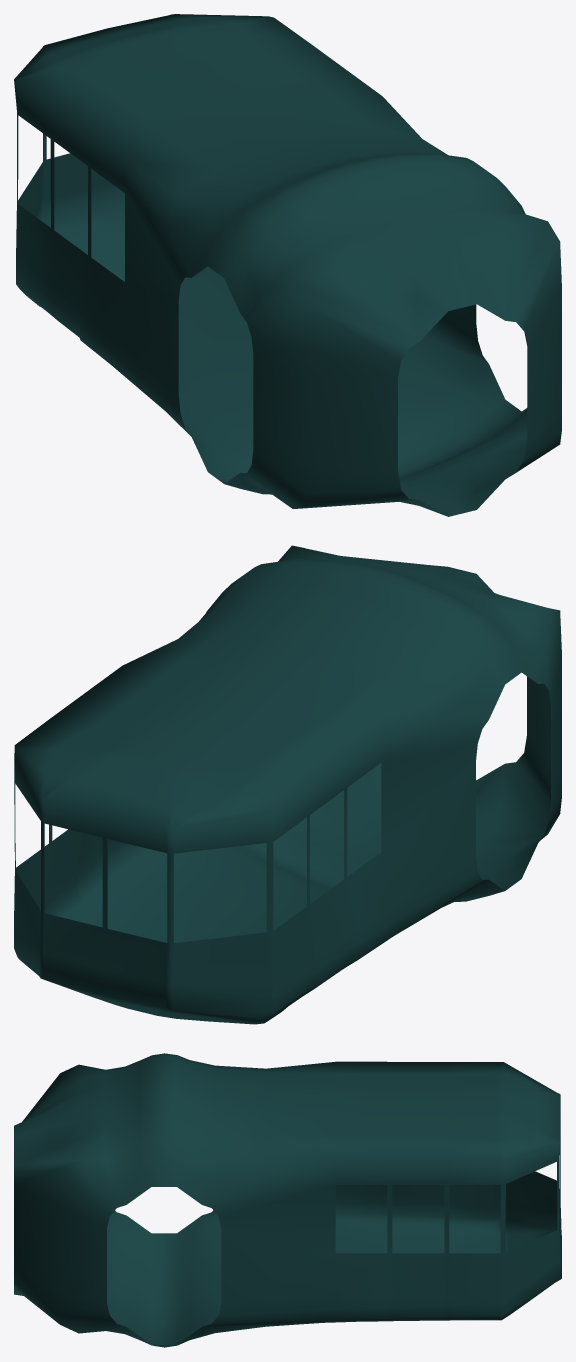
The model's file is OutsideObservatoryRoomHigh.fbx.
3 views of the same model, one above another, from view 1: azimuth 30°, elevation 25°; view 2: azimuth 150°, elevation 25°; view 3: azimuth 270°, elevation 25° (orthographic). The views are drawn at different scales.
Parts seen in each view (by area): view 1: OutsideObservatoryRoomHigh; view 2: OutsideObservatoryRoomHigh; view 3: OutsideObservatoryRoomHigh.
Boxes of the visible parts, x1,y1,x2,y2 form: OutsideObservatoryRoomHigh: (14, 14, 561, 516); OutsideObservatoryRoomHigh: (14, 545, 561, 1024); OutsideObservatoryRoomHigh: (14, 1053, 561, 1347).
Bounding box in the file's own units: 1401 × 2908 × 1439.
